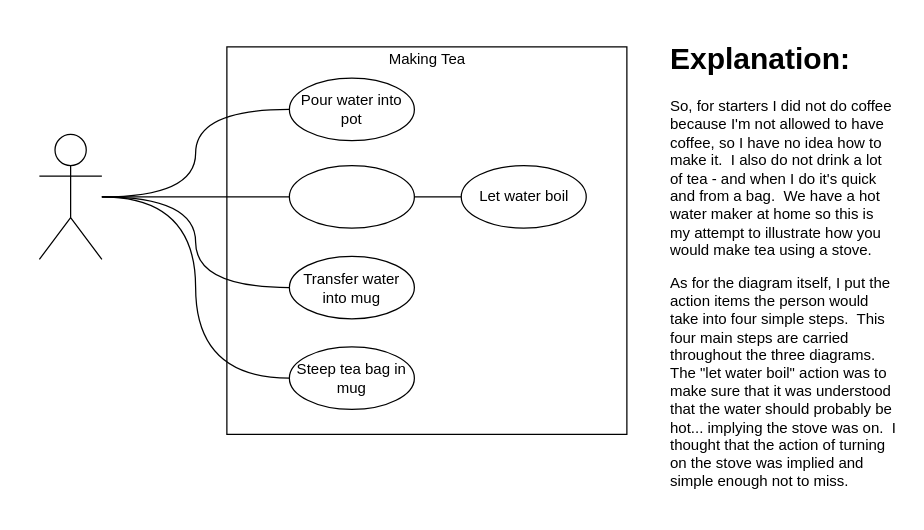
Image size: 924x530. Some labels were removed from this diagram. The shapes that lost their labels are listed below. From the top down, each one's box as (x1, y1, x2, y2) in pixels, then its label:
(38, 133, 102, 259): Tea Enthusiast
(288, 164, 414, 228): Place pot on stove
